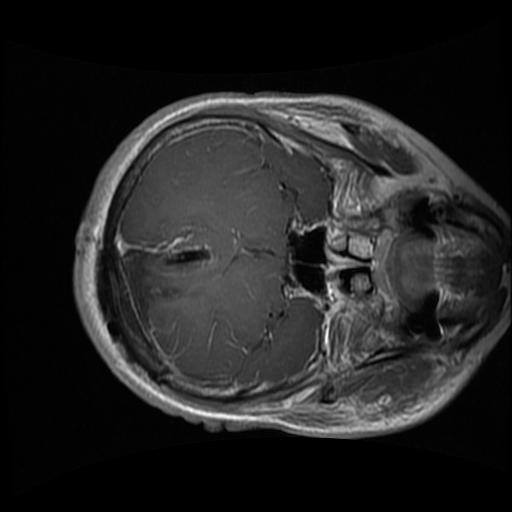glioma: (123, 245, 216, 333)
